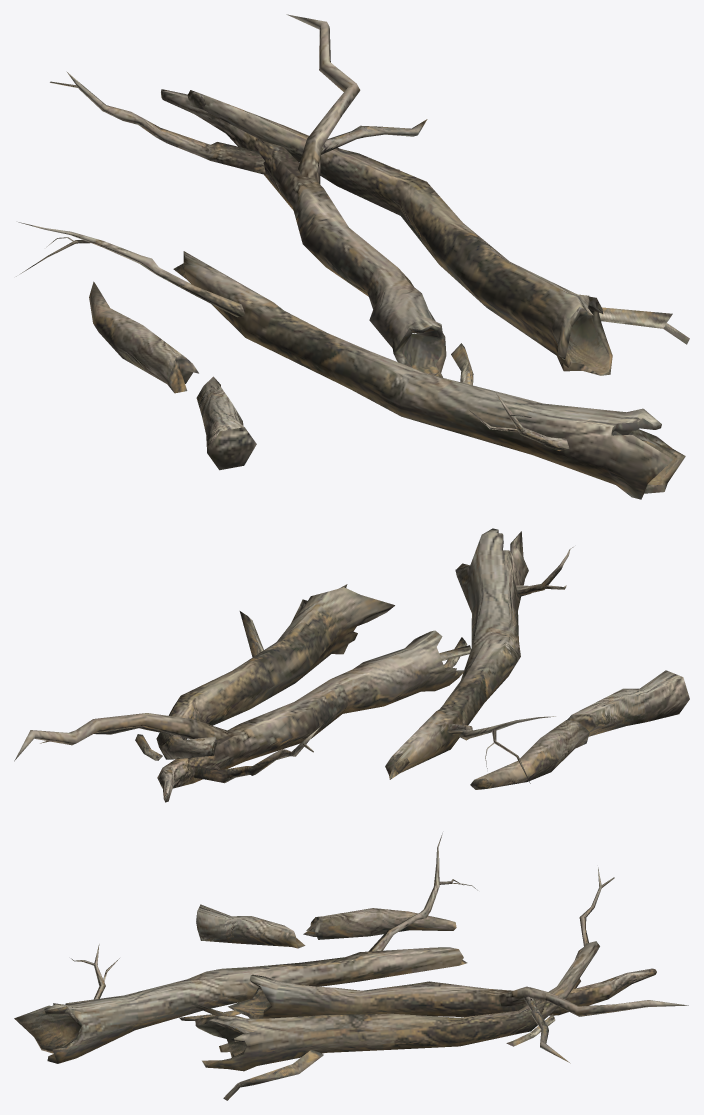
The model's file is S_Tree_Yellow068.FBX.
3 views of the same model, one above another, from view 1: azimuth 30°, elevation 25°; view 2: azimuth 150°, elevation 25°; view 3: azimuth 270°, elevation 25° (orthographic). The views are drawn at different scales.
Parts seen in each view (by area): view 1: S_Tree_Yellow068; view 2: S_Tree_Yellow068; view 3: S_Tree_Yellow068.
Part boxes in pixels (bbox=[...]): S_Tree_Yellow068: bbox=[16, 14, 689, 499]; S_Tree_Yellow068: bbox=[14, 528, 689, 802]; S_Tree_Yellow068: bbox=[14, 833, 688, 1100].
Size of the model in its own units: 337 by 547 by 115.
